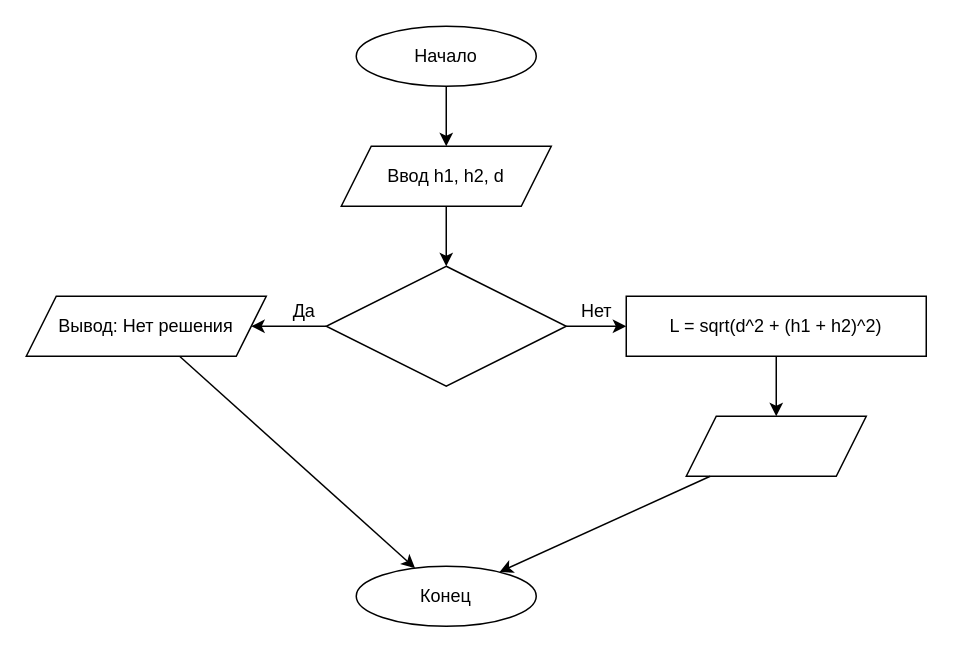
Image size: 953x653. Some labels were removed from this diagram. The centre of each missing label's shape, as x and y in pixels:
"h1 < 0 или h2 < 0 или d < 0" goes at (445,325).
"Вывод L" goes at (775,445).
